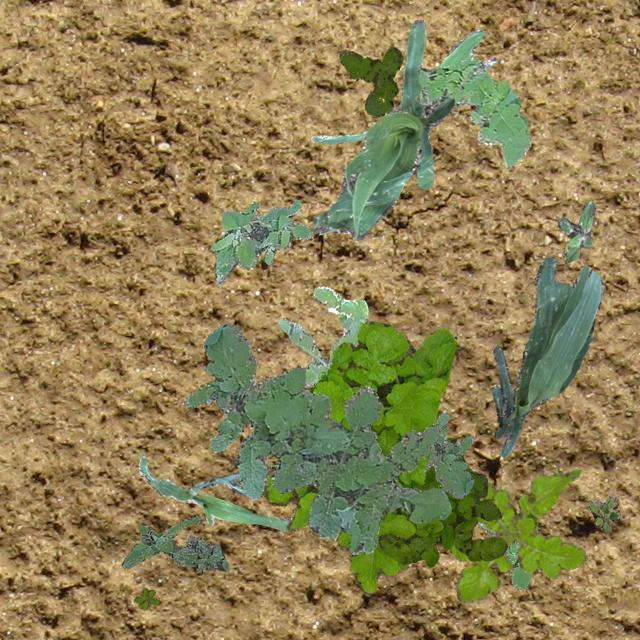crop: (312, 18, 454, 240), (490, 255, 602, 456), (309, 28, 496, 144), (137, 454, 291, 530)
weed: (184, 322, 450, 554), (262, 320, 456, 592), (451, 468, 586, 604), (380, 436, 506, 566), (416, 58, 530, 166), (278, 286, 367, 384), (210, 198, 310, 284), (120, 516, 228, 572), (338, 46, 402, 115), (423, 412, 472, 498), (476, 520, 530, 588), (556, 200, 594, 260), (586, 492, 620, 530), (132, 586, 158, 610), (396, 562, 406, 570)
